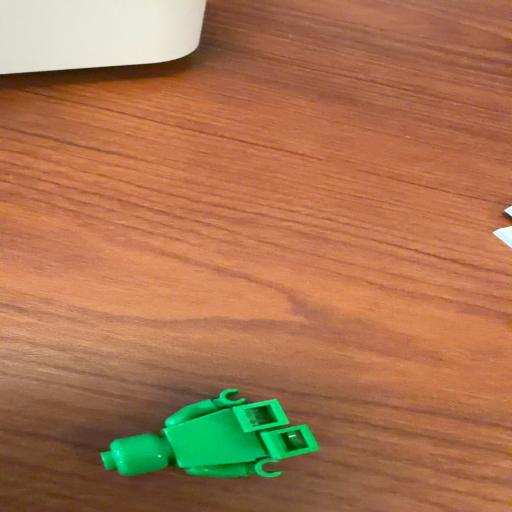UnoQ-minifig-detector: (101, 389, 320, 478)
